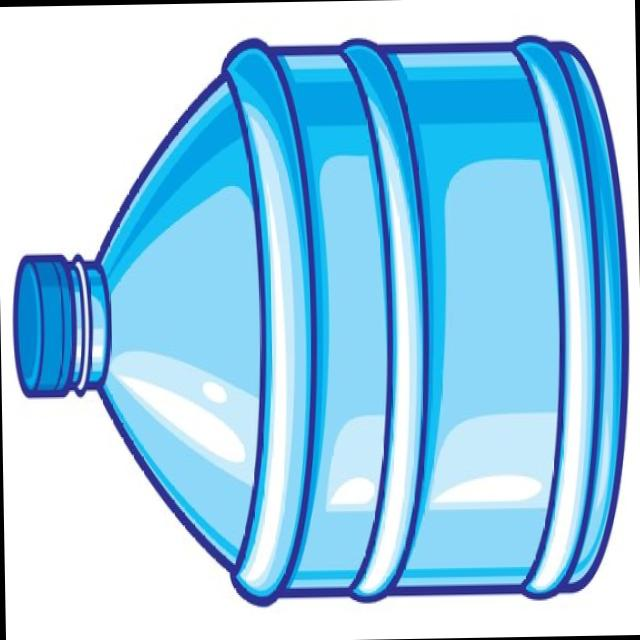plastic_bottle: (9, 23, 638, 606)
